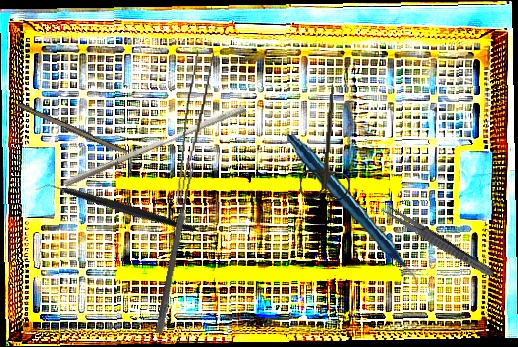Chopper: (33, 135, 198, 283)
Dressing Forceps: (378, 201, 497, 281)
Handpiece: (286, 125, 419, 301)
Iris Scissors: (298, 82, 356, 202)
Pusher: (63, 98, 247, 195)
Scalpel Handle: (15, 102, 130, 157)
Surgical Spoon: (155, 161, 197, 335)
Tissue Forceps: (175, 48, 215, 207)
